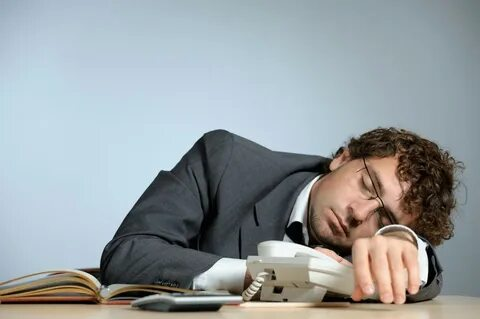sleep: (100, 127, 467, 284)
